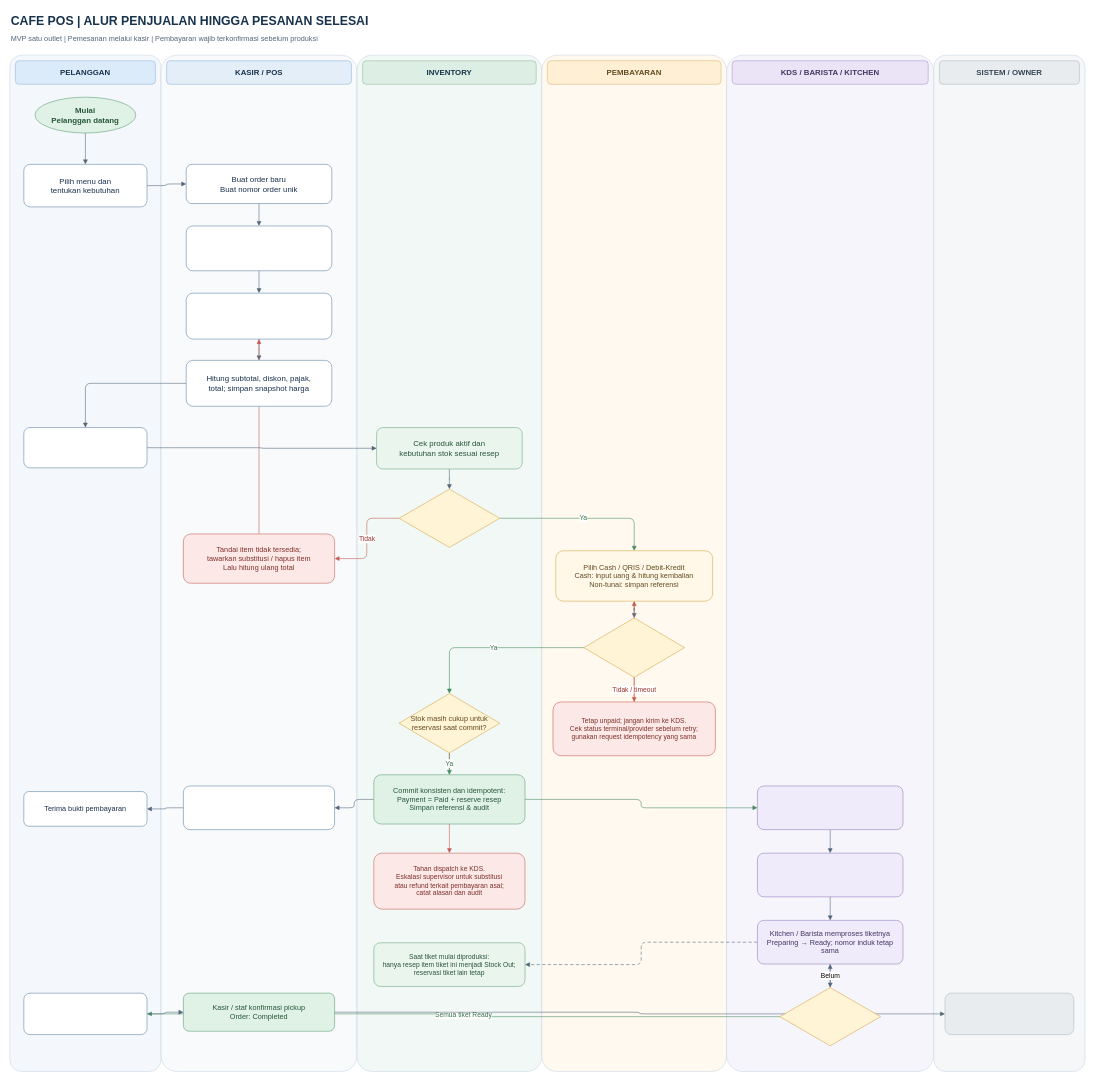
This 1095x1081 diagram has some shape labels left out. Each missing label, with the centre of its shape:
Data masuk ke histori, laporan penjualan & audit: the point at 1009,1014
Kasir konfirmasi rincian dan total ke pelanggan: the point at 85,447
Kitchen: makanan | Barista: minuman FIFO dan status dikelola per tiket: the point at 830,875
Order Paid membuat tiket per stasiun Nomor order induk, item, modifier, catatan: the point at 830,807
Pelanggan mengambil pesanan di counter setelah nomor dipanggil: the point at 85,1014
Pembayaran terkonfirmasi?: the point at 634,647
Pilih Dine-in / Takeaway Dine-in: pilih meja tersedia: the point at 259,248
Semua tiket stasiun Ready?: the point at 830,1016
Stok bahan mencukupi?: the point at 449,518
Tambah produk, kuantitas, modifier, dan catatan: the point at 259,316
Terbitkan bukti transaksi Nomor, item, total, metode bayar: the point at 259,807
